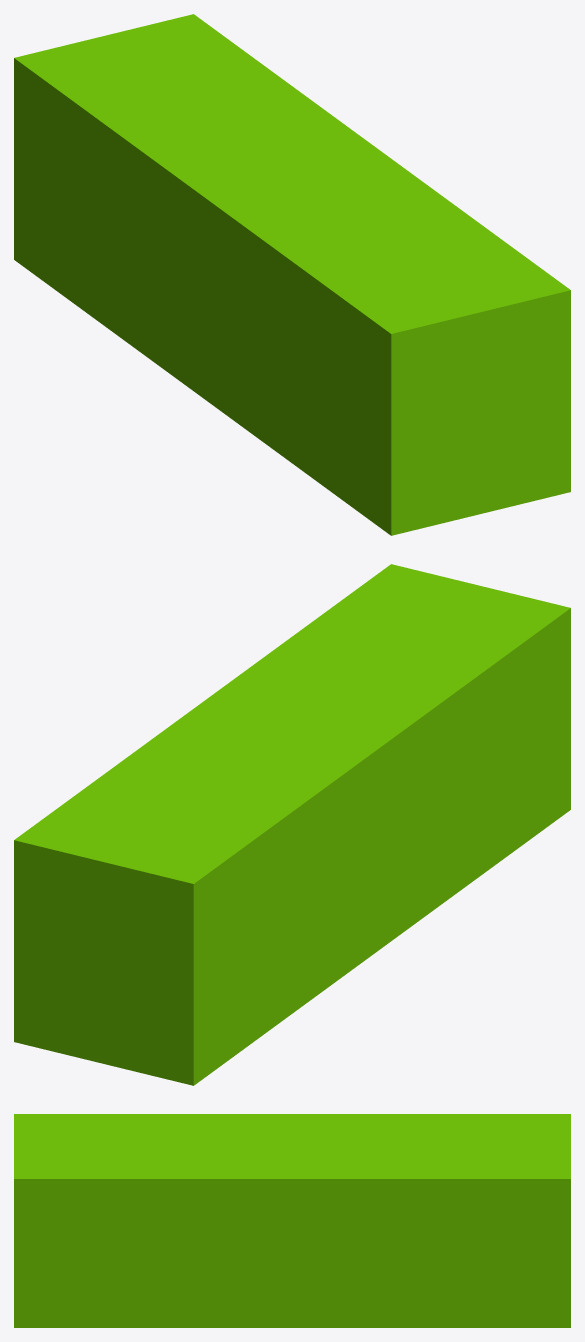
Rendered from laser.fbx.
3 views of the same model, one above another, from view 1: azimuth 30°, elevation 25°; view 2: azimuth 150°, elevation 25°; view 3: azimuth 270°, elevation 25° (orthographic). The views are drawn at different scales.
Parts seen in each view (by area): view 1: Cube; view 2: Cube; view 3: Cube.
Part boxes in pixels (box(x1,y1,x2,y2)): Cube: box(14, 14, 570, 535); Cube: box(14, 564, 570, 1085); Cube: box(14, 1114, 570, 1327).
Size of the model in its own units: 0.325 by 0.3487 by 1.18.
